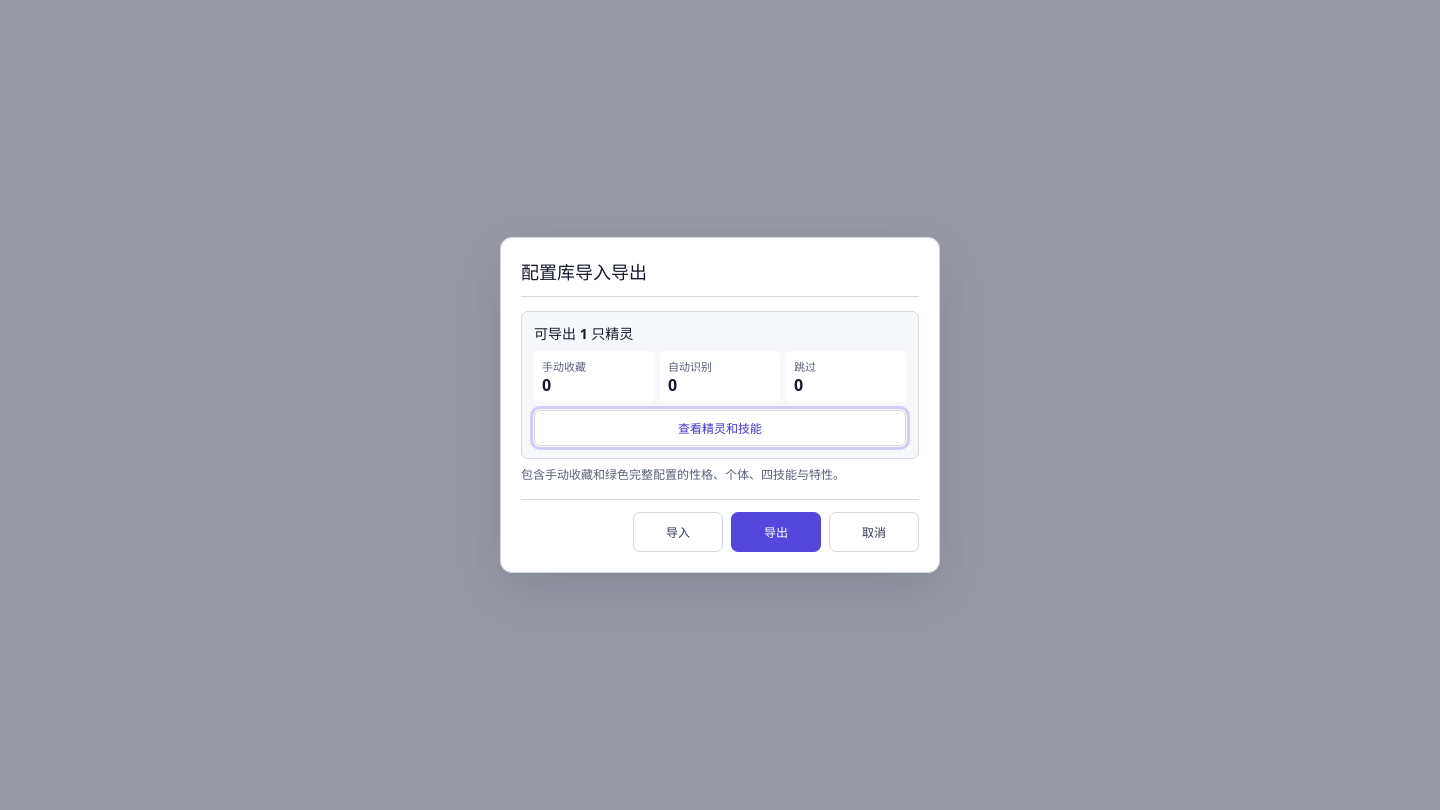
expands the exact spirits, natures, and four skills included in export
Expected: the text "烈焰冲锋" is not shown
Click the button "查看精灵和技能" at point(720, 428), box [534,410,906,446]
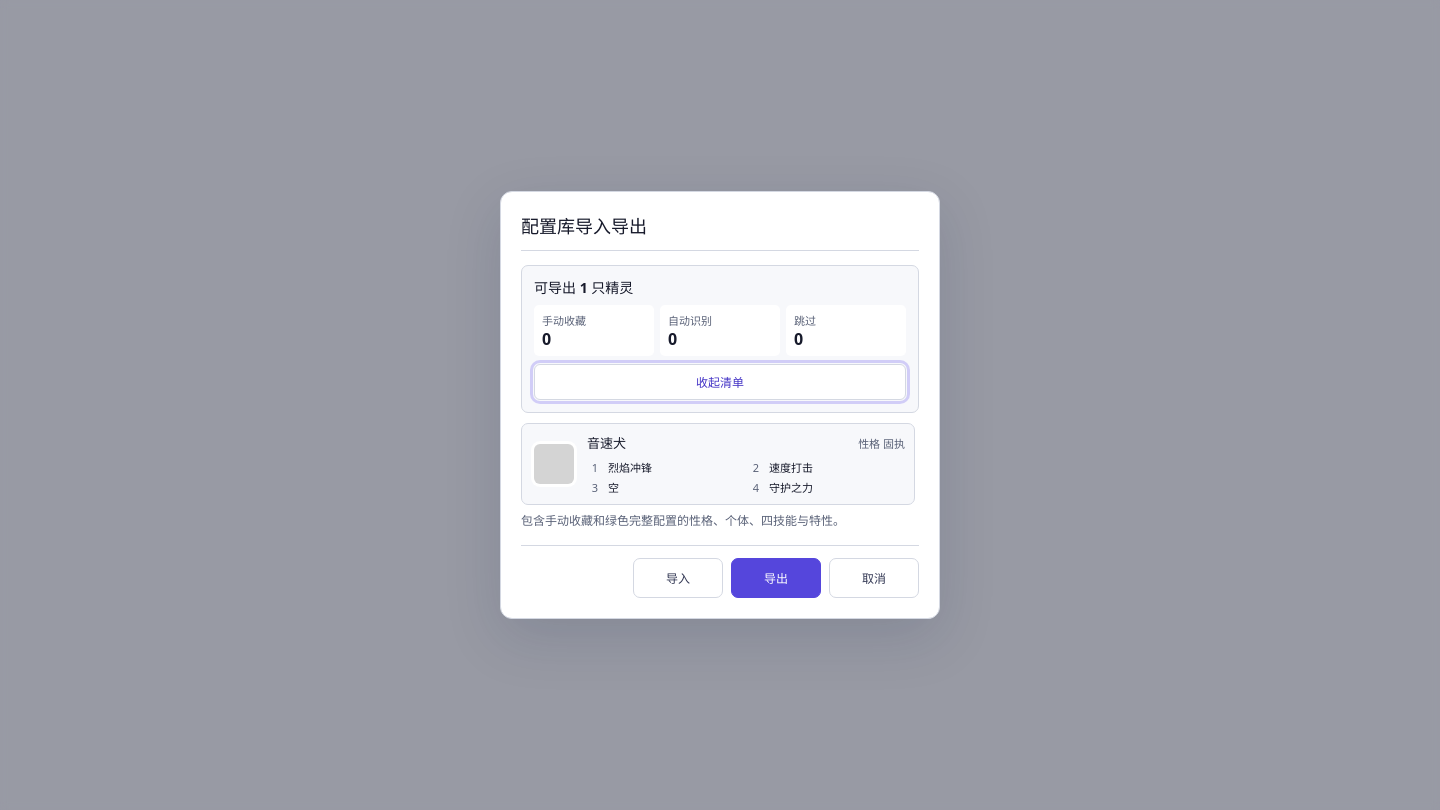
Result: the button named "查看精灵和技能" is expanded at [534,364,906,400]
Result: the text "音速犬" is shown at [587,433,626,452]
Result: the text "性格 固执" is shown at [858,435,905,451]
